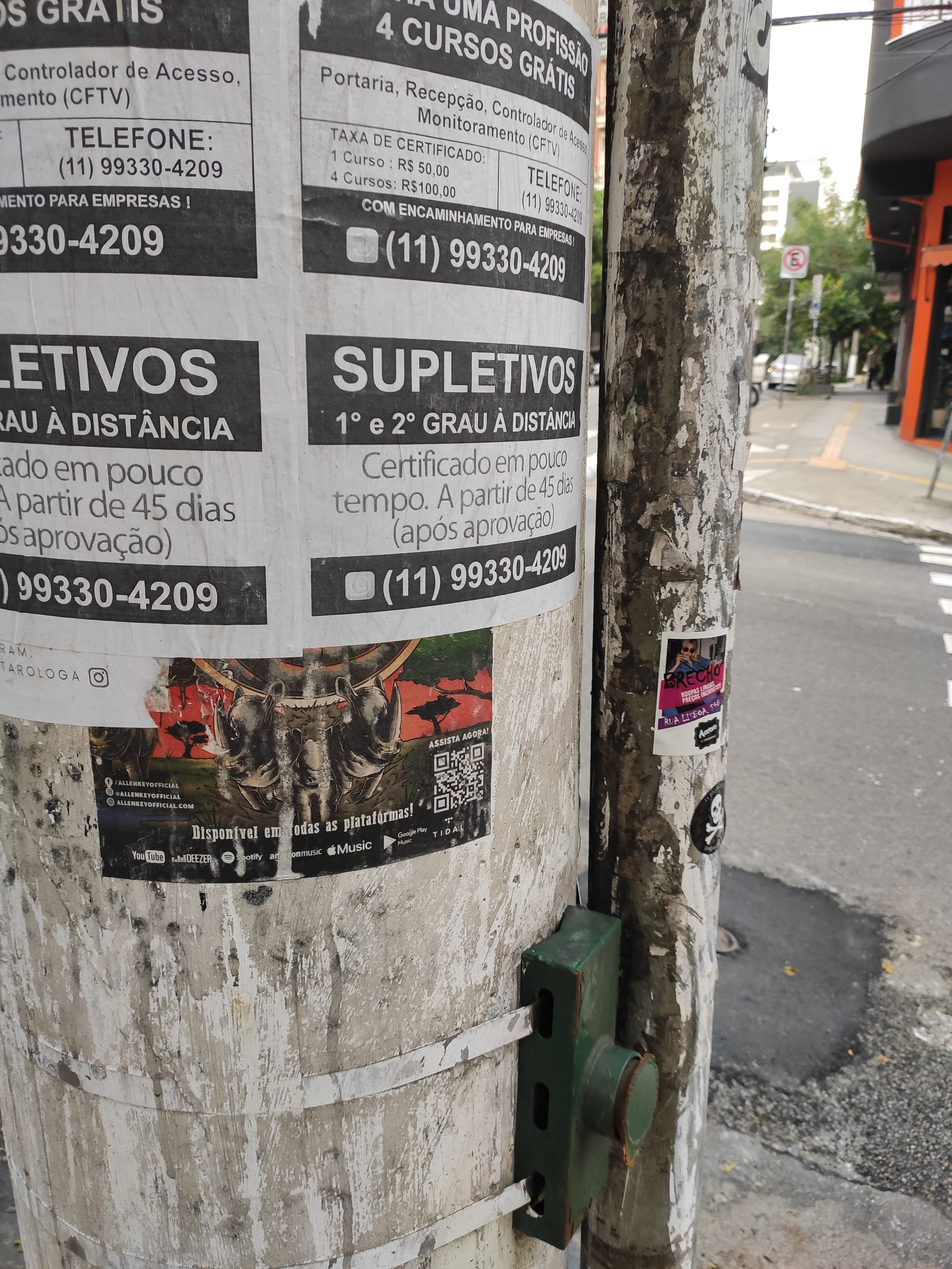QR-CODE: (434, 743, 484, 812)
